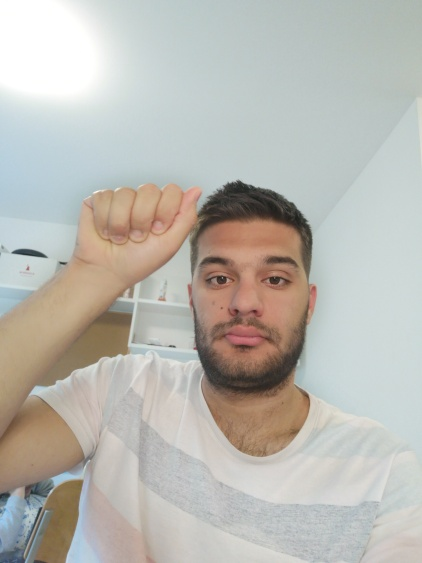A: (69, 179, 206, 287)
